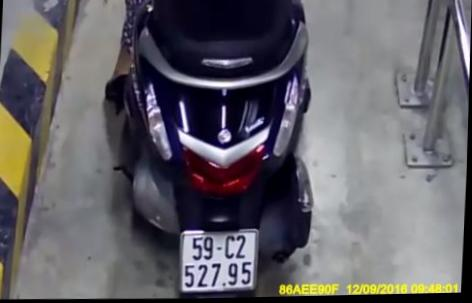LP: (177, 226, 262, 297)
